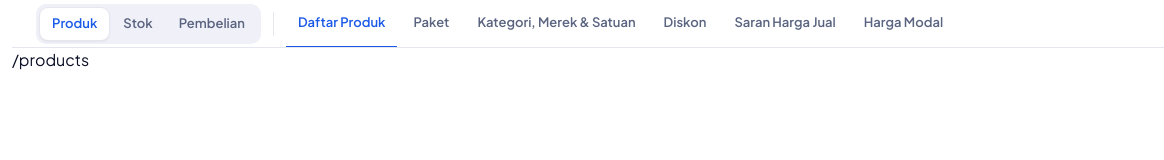
Test case: product sections switch to stock without rendering eleven tabs at once
The image size is (1164, 160).
Check: the text "Transfer Stok" is not shown
What coordinates should you click on to do the following:
click the link "Stok"
I would click on:
 (138, 23)
Its box is [123,15,153,31].
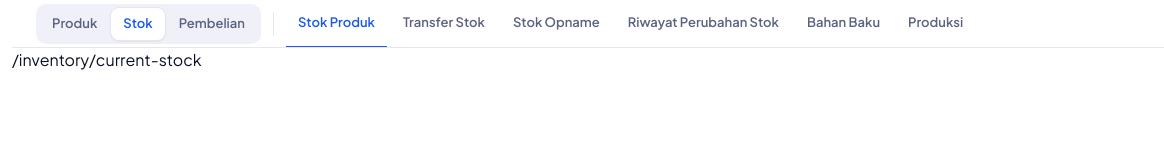
Check: the text "/inventory/current-stock" is shown, box [12,49,202,70]
Check: the text "Transfer Stok" is shown, box [403,14,485,30]
Check: the text "Kategori, Merek & Satuan" is gone
